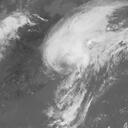cyclone: (44, 29, 108, 83)
